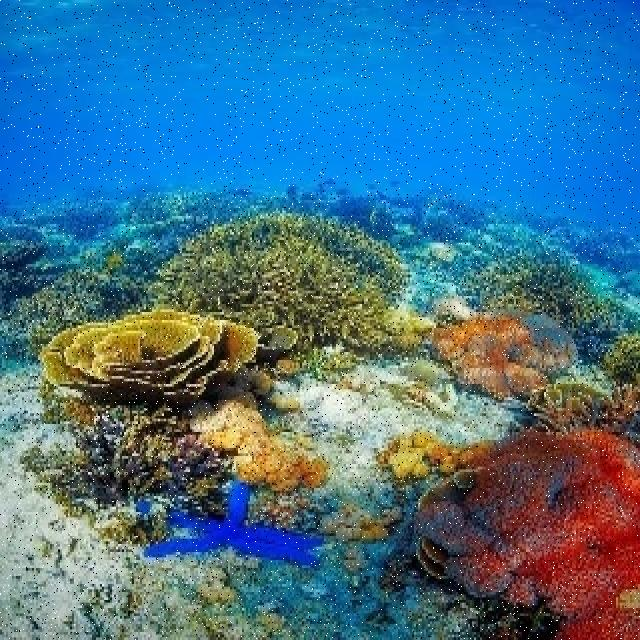reefs: (143, 208, 431, 381), (412, 427, 638, 637), (458, 227, 638, 448), (17, 380, 230, 519), (41, 310, 260, 403), (144, 483, 334, 566), (430, 293, 575, 398), (185, 392, 324, 491), (374, 426, 475, 478)
